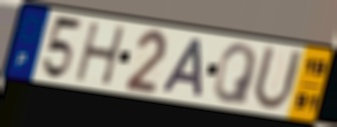2: (123, 27, 171, 97)
5: (41, 13, 84, 81)
A: (159, 36, 206, 100)
H: (73, 21, 128, 87)
Q: (211, 42, 260, 107)
U: (249, 43, 305, 114)
